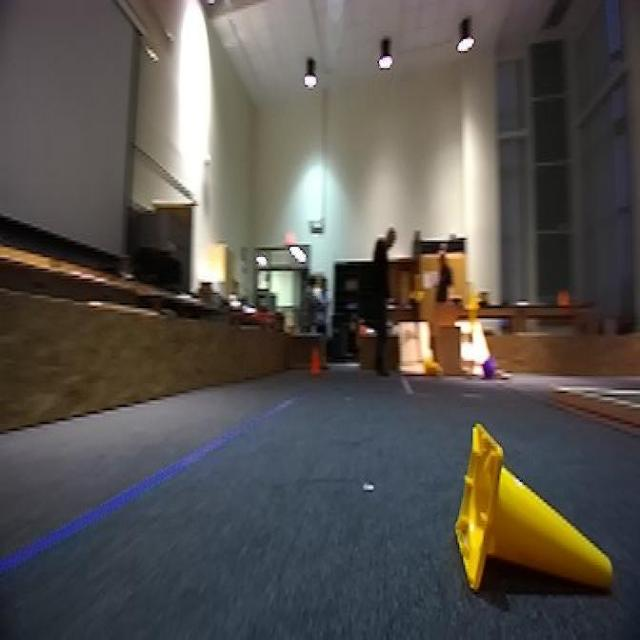frc_cone: (456, 418, 616, 596), (464, 282, 478, 315), (422, 359, 438, 381), (464, 312, 476, 337)
frc_cube: (483, 352, 498, 378)
